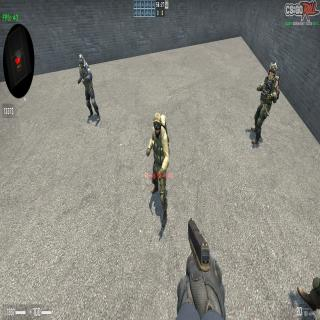CT-Body: (146, 112, 170, 228), (251, 62, 279, 148), (77, 53, 100, 123)
CT-Head: (153, 113, 162, 139), (268, 62, 277, 82), (79, 54, 84, 70)
